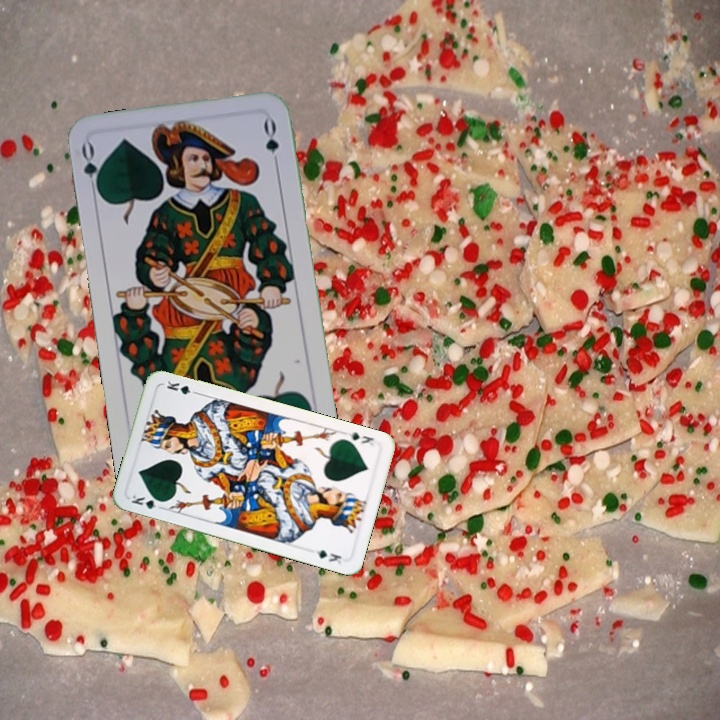GK: (127, 490, 167, 512), (344, 428, 376, 448)
GO: (77, 139, 104, 199)
